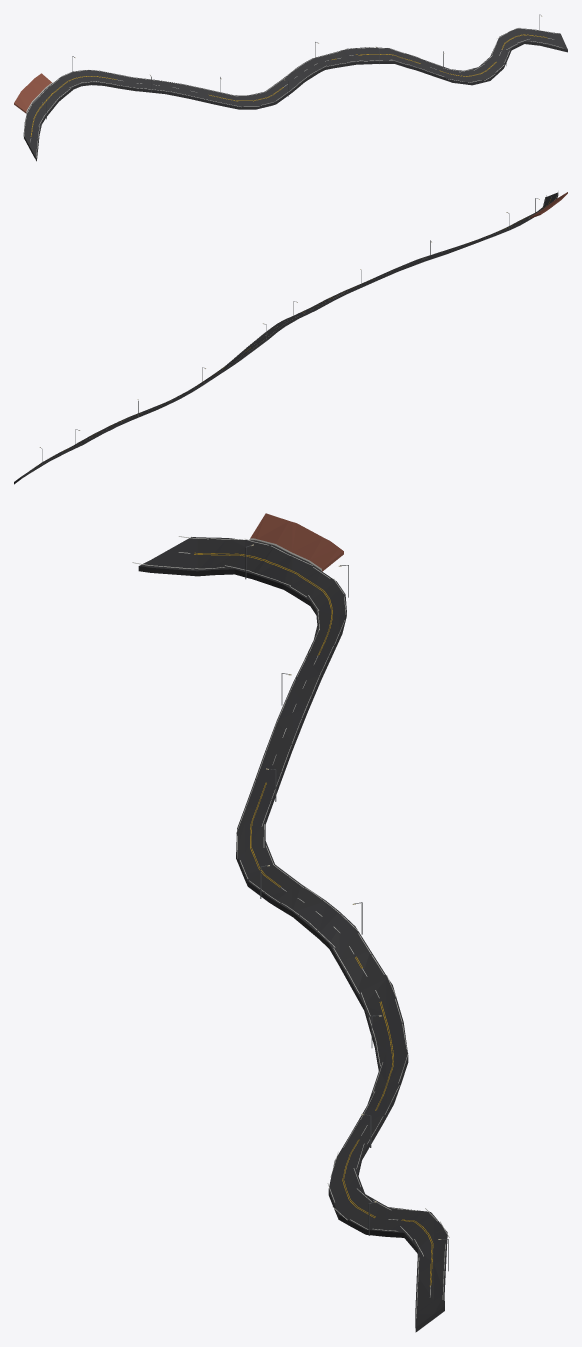
File: 17-109475-59453.eebdd439.glb
3 renders of one model, top to bottom at view 1: azimuth 30°, elevation 25°; view 2: azimuth 210°, elevation 25°; view 3: azimuth 270°, elevation 25°, orthographic. The views are drawn at different scales.
Size of the model in its own units: 295 by 62.42 by 67.15.
